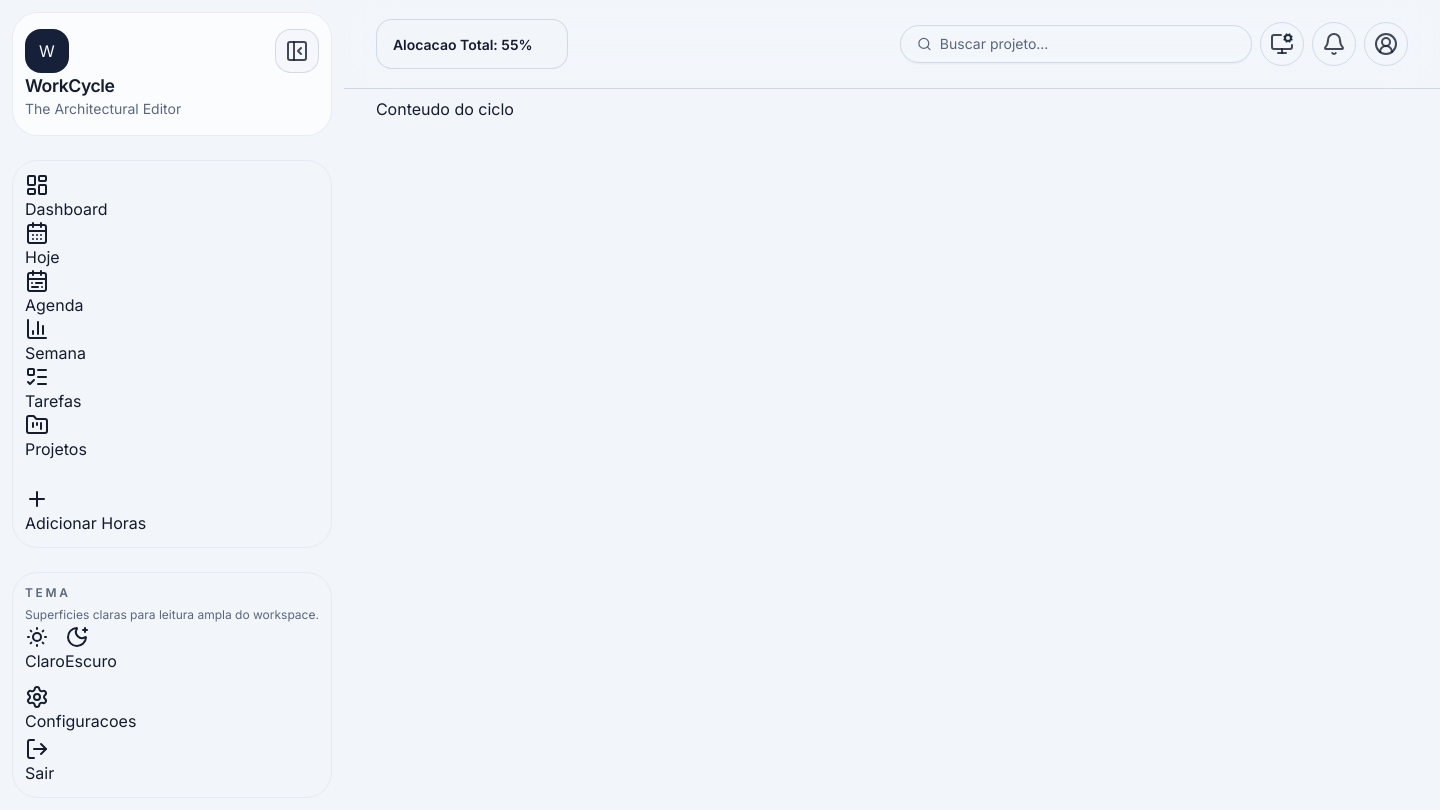
Test: AppLayout › toggles the theme mode and collapses the sidebar
Click the button with aria-label "Usar tema escuro". click: (91, 649)
box: x1=65 y1=625 x2=117 y2=673
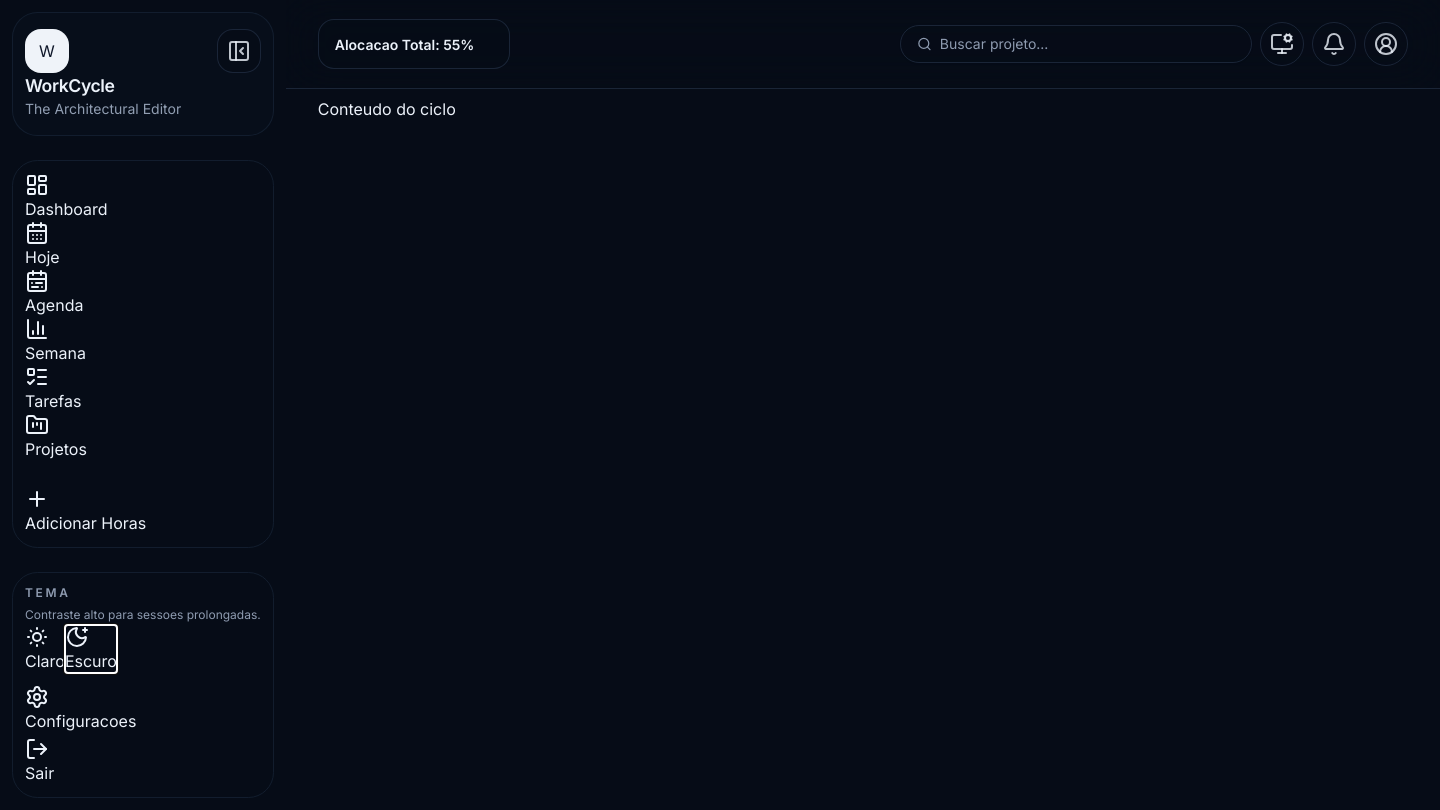
Click the button named "Recolher barra lateral". click: (239, 51)
box: x1=217 y1=29 x2=261 y2=73
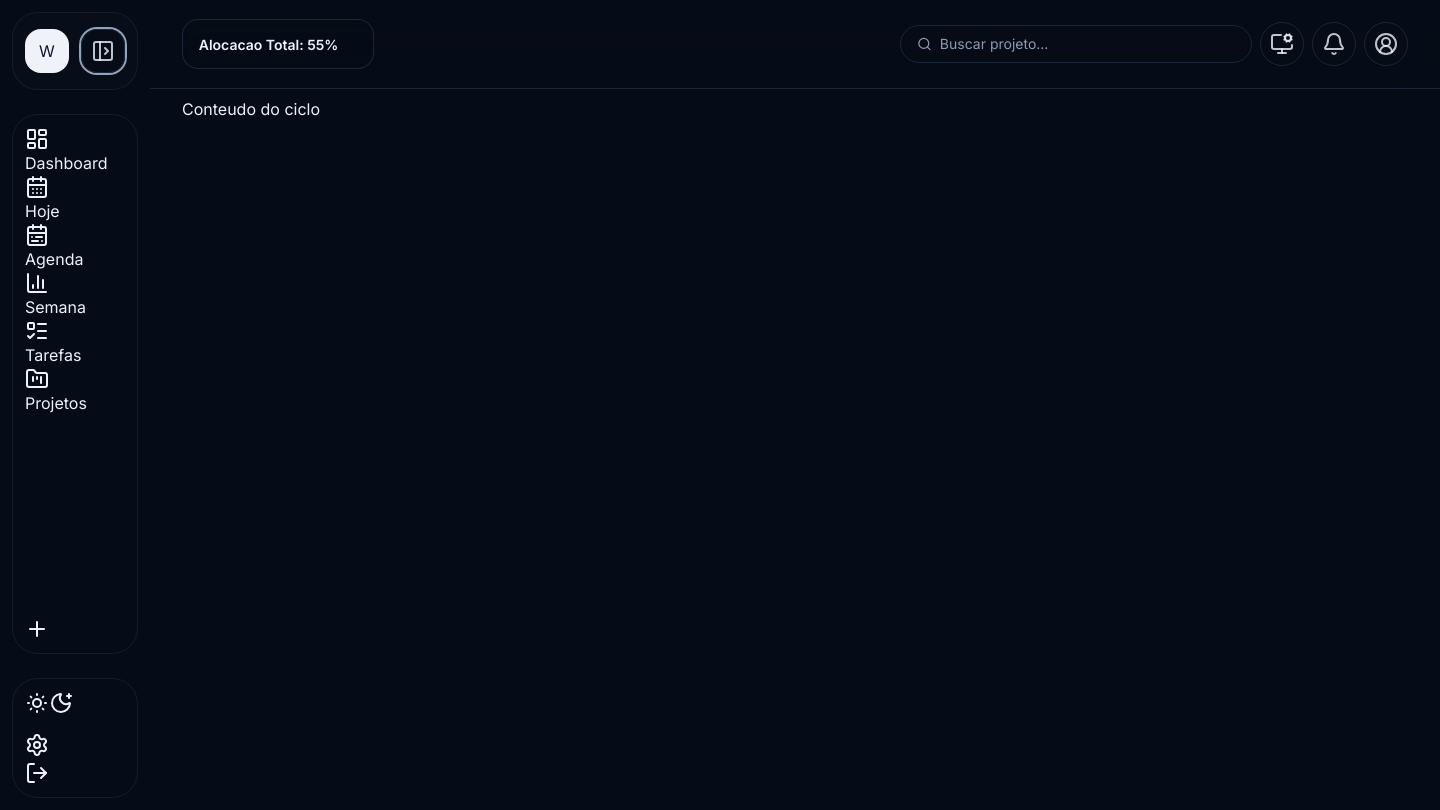
expect the button named "Expandir barra lateral" is shown: met, box x1=81 y1=29 x2=125 y2=73
